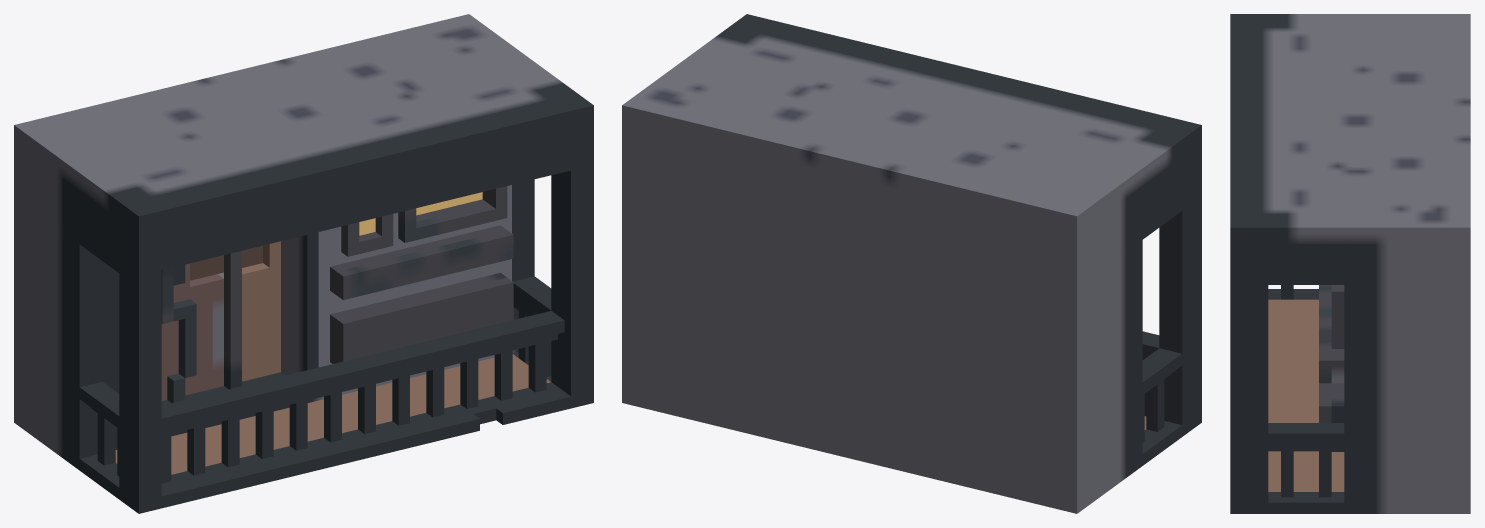
File: BuildingBlock-3.fbx
The picture shows the model from 3 angles, left to right: view 1: azimuth 30°, elevation 25°; view 2: azimuth 150°, elevation 25°; view 3: azimuth 270°, elevation 25°; orthographic projection. The views are drawn at different scales.
Parts seen in each view (by area): view 1: BuildingBlock_3; view 2: BuildingBlock_3; view 3: BuildingBlock_3.
Boxes of the visible parts, <box> form: BuildingBlock_3: <box>14,14,593,513</box>; BuildingBlock_3: <box>622,14,1201,513</box>; BuildingBlock_3: <box>1230,14,1470,513</box>.
Bounding box in the file's own units: 400 × 250 × 190.
2 materials, 2 textured.
